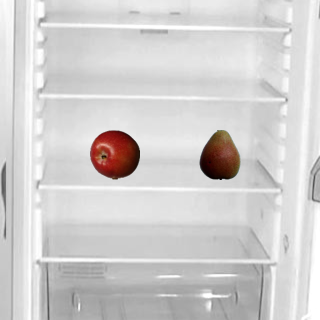Apple Braeburn: (89, 129, 139, 179)
Pear Forelle: (194, 129, 244, 179)
